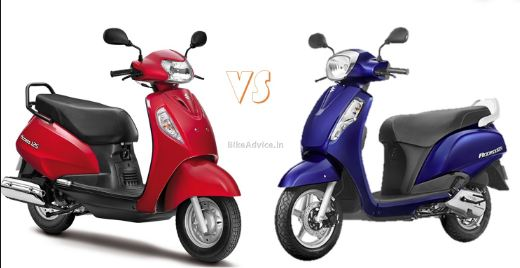bike: (3, 25, 242, 266), (278, 23, 507, 262)
